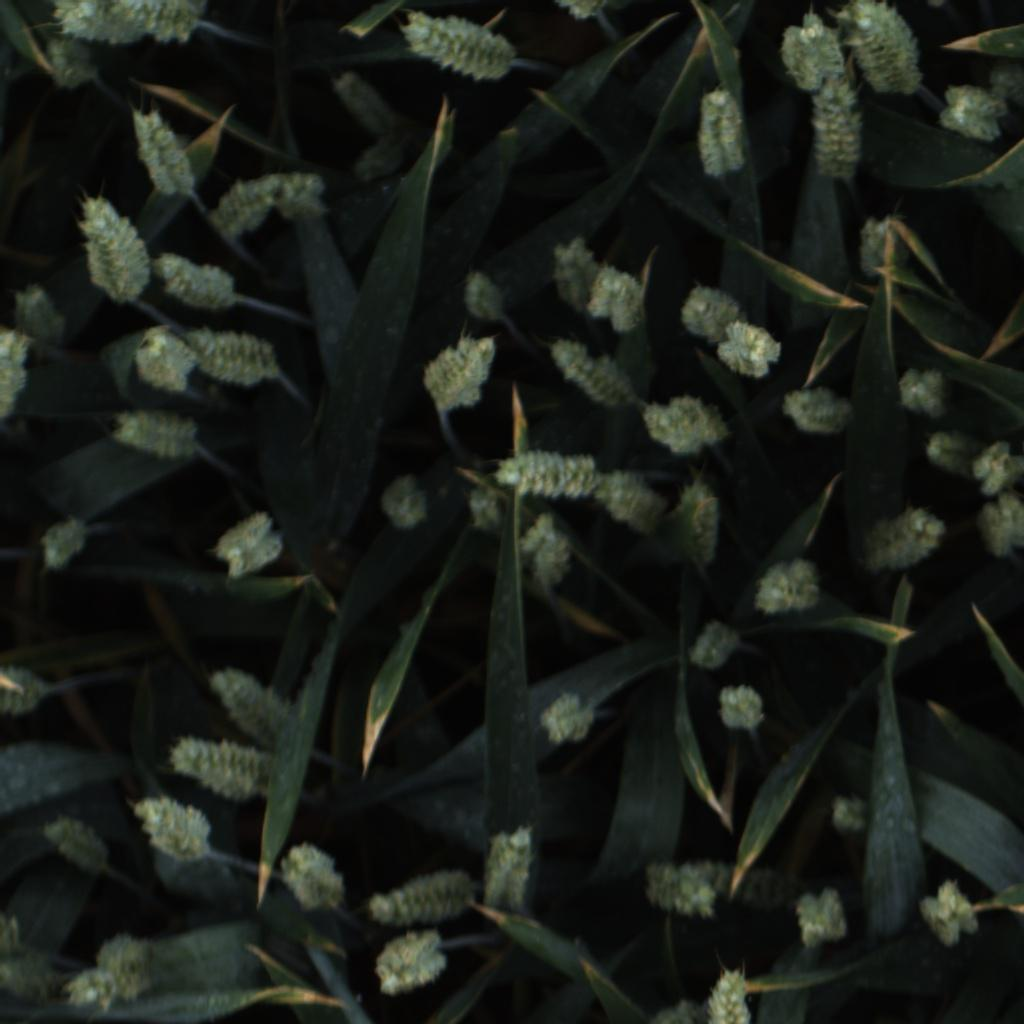0-0: (837, 0, 933, 100), (399, 7, 518, 87), (77, 194, 156, 309), (205, 664, 300, 752), (543, 332, 640, 418), (165, 731, 273, 805), (127, 103, 201, 206), (852, 501, 950, 576), (417, 333, 506, 414), (807, 69, 869, 185), (364, 868, 475, 928), (129, 793, 220, 866), (641, 388, 731, 461), (779, 10, 855, 96), (496, 444, 600, 506), (188, 325, 284, 389), (212, 505, 286, 584), (155, 253, 244, 318), (691, 88, 753, 179), (774, 380, 862, 444), (913, 875, 987, 951), (273, 840, 346, 917), (374, 929, 457, 996), (514, 510, 578, 594), (850, 208, 917, 288), (670, 473, 723, 572), (585, 262, 653, 338), (209, 166, 277, 241), (1, 324, 52, 424), (481, 820, 534, 916), (681, 273, 747, 350), (329, 64, 397, 138), (107, 410, 201, 463), (747, 556, 824, 620), (784, 882, 854, 952), (594, 467, 665, 536), (111, 2, 217, 48), (935, 79, 1010, 144), (713, 318, 788, 382), (647, 857, 717, 925), (38, 0, 120, 58), (31, 36, 106, 99), (95, 932, 160, 1003), (41, 812, 113, 876), (136, 324, 199, 396), (892, 359, 959, 426), (34, 507, 97, 578), (538, 684, 602, 751), (972, 493, 1024, 570), (710, 680, 777, 739), (12, 280, 70, 348), (548, 238, 600, 313), (0, 948, 67, 1006), (701, 965, 766, 1024), (683, 613, 744, 675), (375, 472, 436, 533), (820, 785, 880, 844), (967, 436, 1024, 498), (456, 260, 511, 324), (462, 473, 516, 534), (917, 427, 974, 484), (276, 165, 328, 226), (61, 966, 123, 1016), (2, 665, 52, 723), (986, 54, 1024, 114), (638, 997, 697, 1024), (553, 0, 609, 24), (0, 912, 29, 954)
